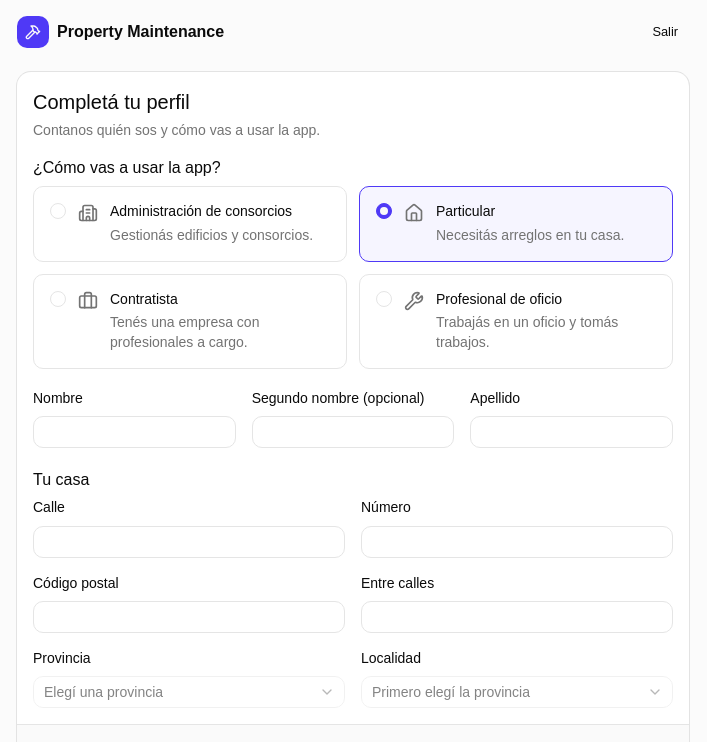
it: Onboarding › shows the API error
The width and height of the screenshot is (707, 742).
Click the radio button named "Contratista" at (58, 298), box [50,290,66,306]
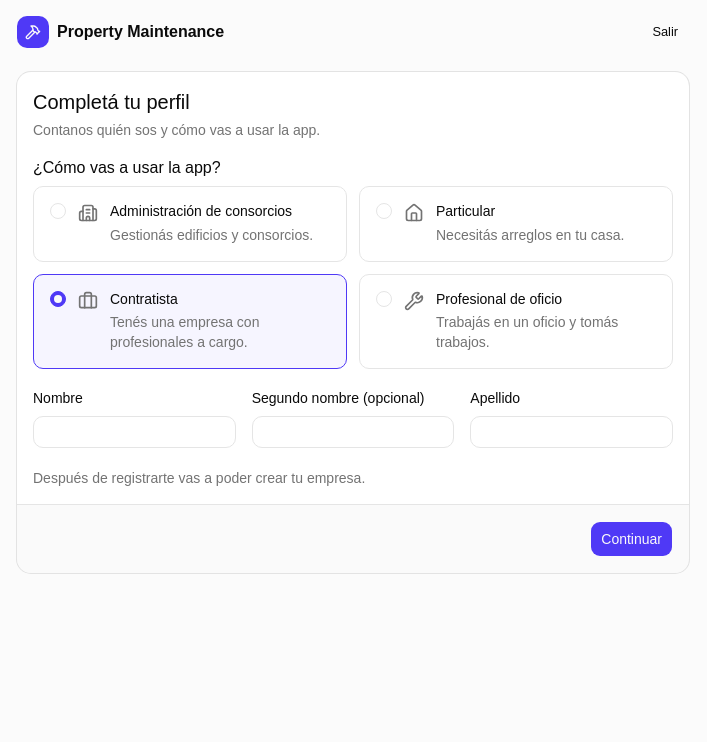
Type " Ana " into the field labelled "Nombre" at (134, 432), box [33,416,236,448]
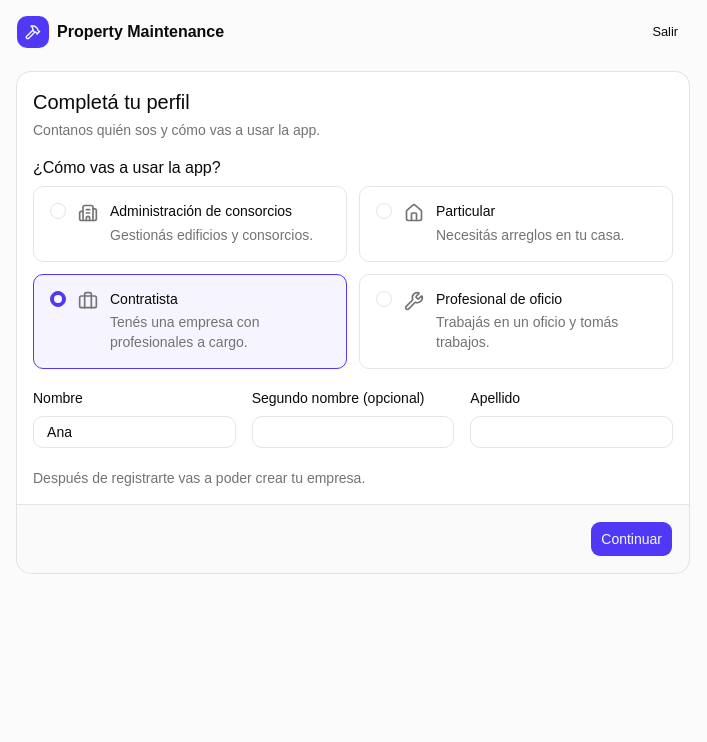
Type "García" into the field labelled "Apellido" at (572, 432), box [470,416,673,448]
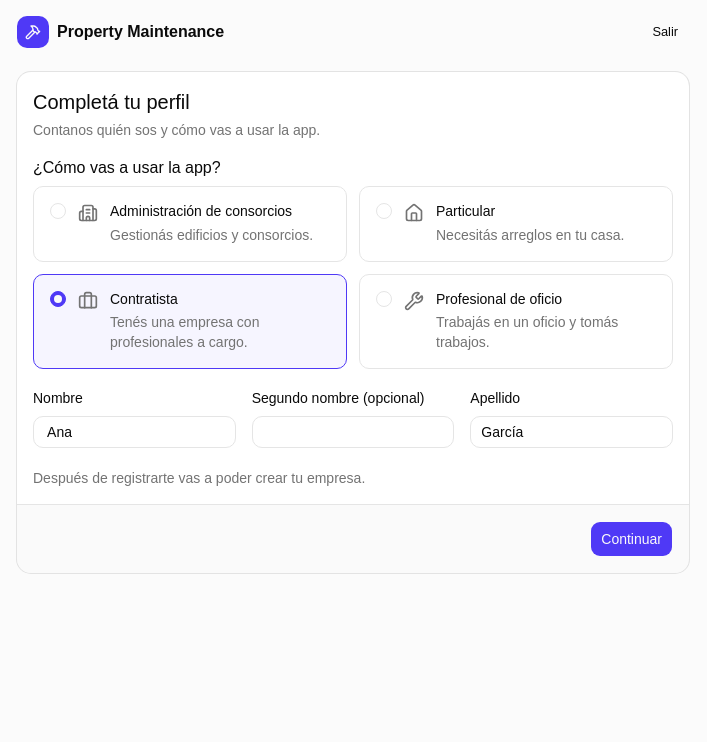
Click the button "Continuar" at (632, 539), box [590,521,673,557]
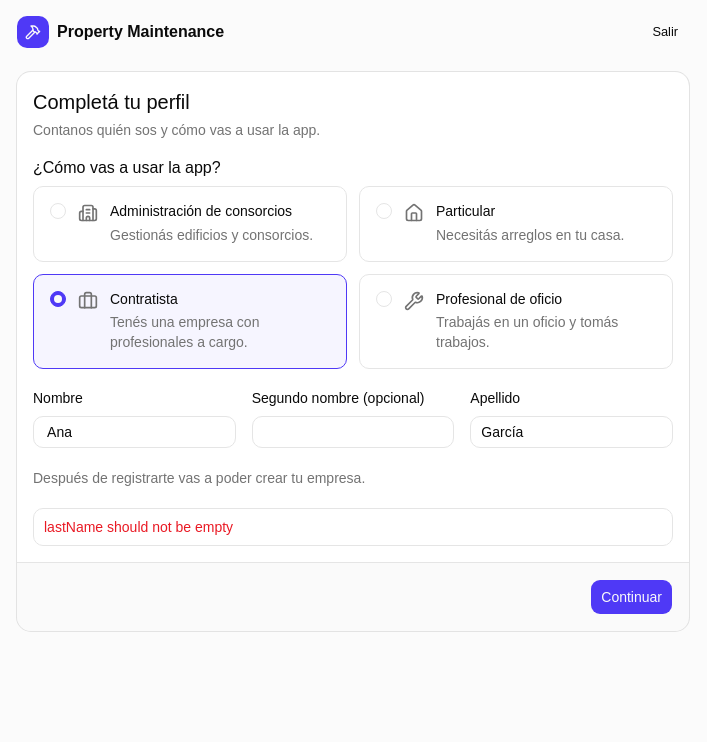
Check: the message reads "lastName should not be empty", box [44,519,233,535]
